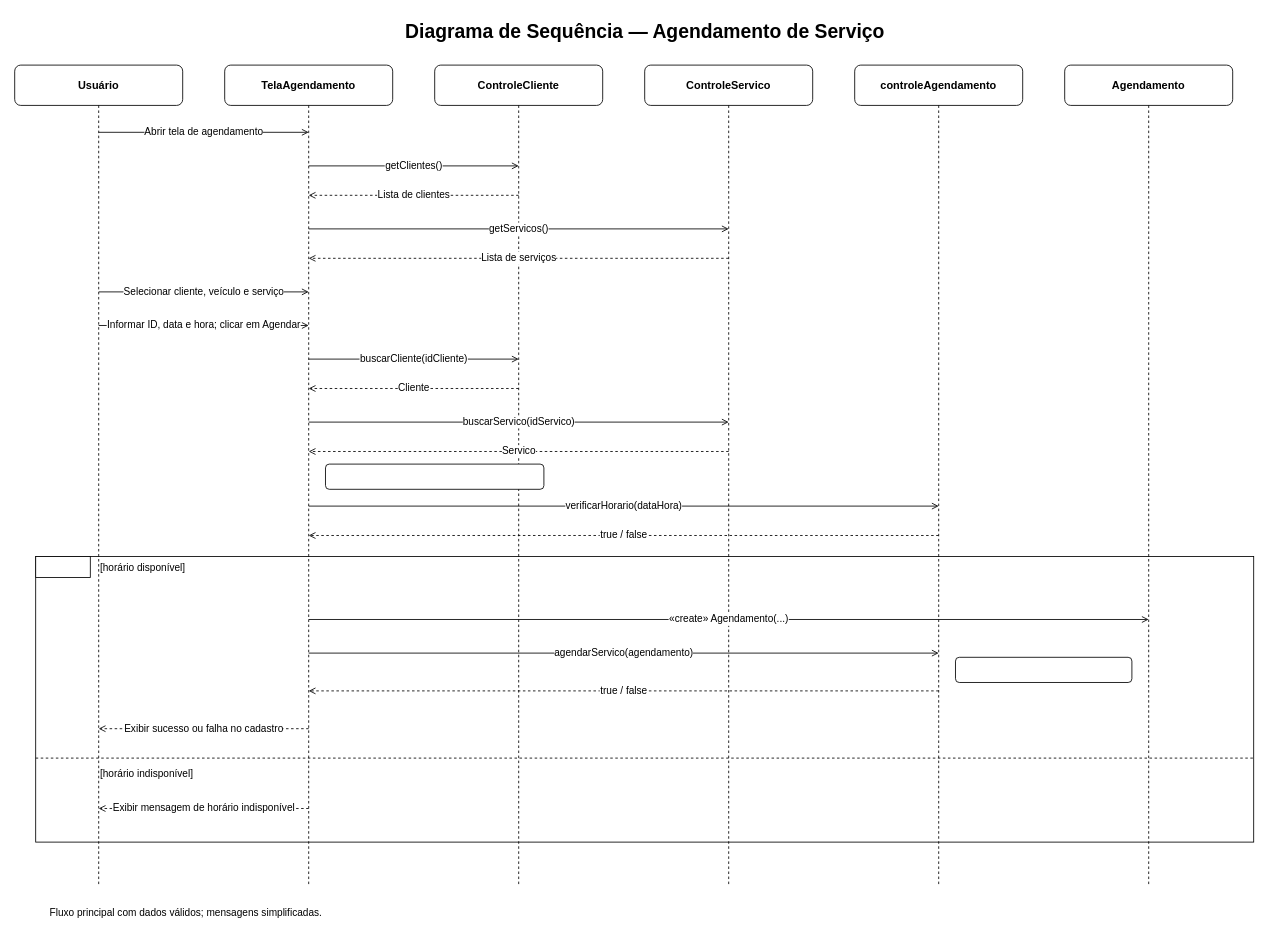
Some shapes in this 1269 by 940 pixel diagram are drawn without their labels. Each missing label, with the centre of its shape:
"alt" goes at point 62,567.
"Validar campos, veículo e data futura" goes at point 434,476.
"Validar e armazenar na lista se válido" goes at point 1043,669.
